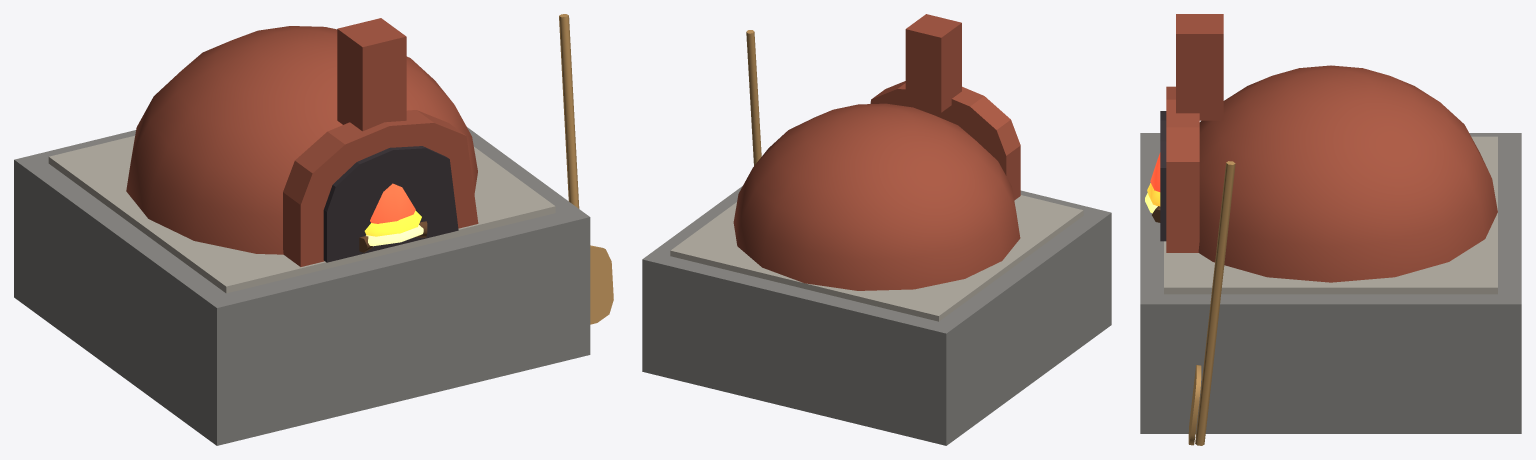
The model's file is bread-oven-source.glb.
3 views of the same model, side by side, from view 1: azimuth 30°, elevation 25°; view 2: azimuth 150°, elevation 25°; view 3: azimuth 270°, elevation 25° (orthographic). The views are drawn at different scales.
Visible parts, largest first — view 1: Oven base, Oven dome, Oven floor, Oven arch, Oven mouth, Oven chimney, Oven peel, Oven outer flame, Oven flame; view 2: Oven base, Oven dome, Oven floor, Oven chimney, Oven arch, Oven peel; view 3: Oven base, Oven dome, Oven floor, Oven arch, Oven chimney, Oven peel, Oven mouth.
Part boxes in pixels (x1,y1,x2,y2): Oven base: (14,127,590,445); Oven dome: (126,26,477,254); Oven floor: (48,135,555,293); Oven arch: (283,110,478,266); Oven mouth: (323,146,458,262); Oven chimney: (337,18,406,131); Oven peel: (559,14,613,324); Oven outer flame: (370,183,415,223); Oven flame: (364,210,421,236); Oven base: (642,186,1111,445); Oven dome: (733,103,1020,290); Oven floor: (670,195,1083,321); Oven chimney: (905,14,961,112); Oven arch: (870,81,1020,200); Oven peel: (746,30,761,165); Oven base: (1140,133,1521,433); Oven dome: (1198,65,1497,282); Oven floor: (1164,136,1497,294); Oven arch: (1166,86,1199,252); Oven chimney: (1176,14,1223,120); Oven peel: (1188,161,1235,445); Oven mouth: (1160,111,1166,241).
Size of the model in its own units: 1.93 by 1.5 by 1.6.
